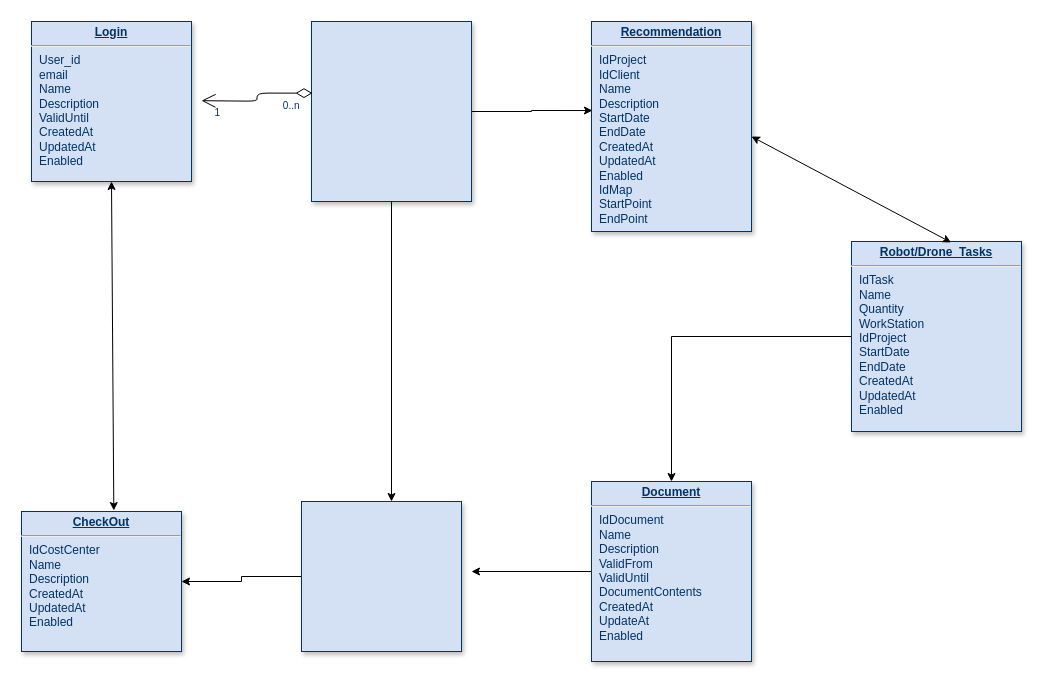
Image size: 1045x686. Some labels were removed from this diagram. The shapes that lost their labels are listed below. From the top down, each one's centre as x and y in pixels, then its label:
At (392,112): "User IdUser Name LastName Email UserName Password CreatedAt UpdatedAt Enabled".
At (382,577): "Client IdClient IdCompany Name Description CreatedAt UpdatedAt Enabled".
